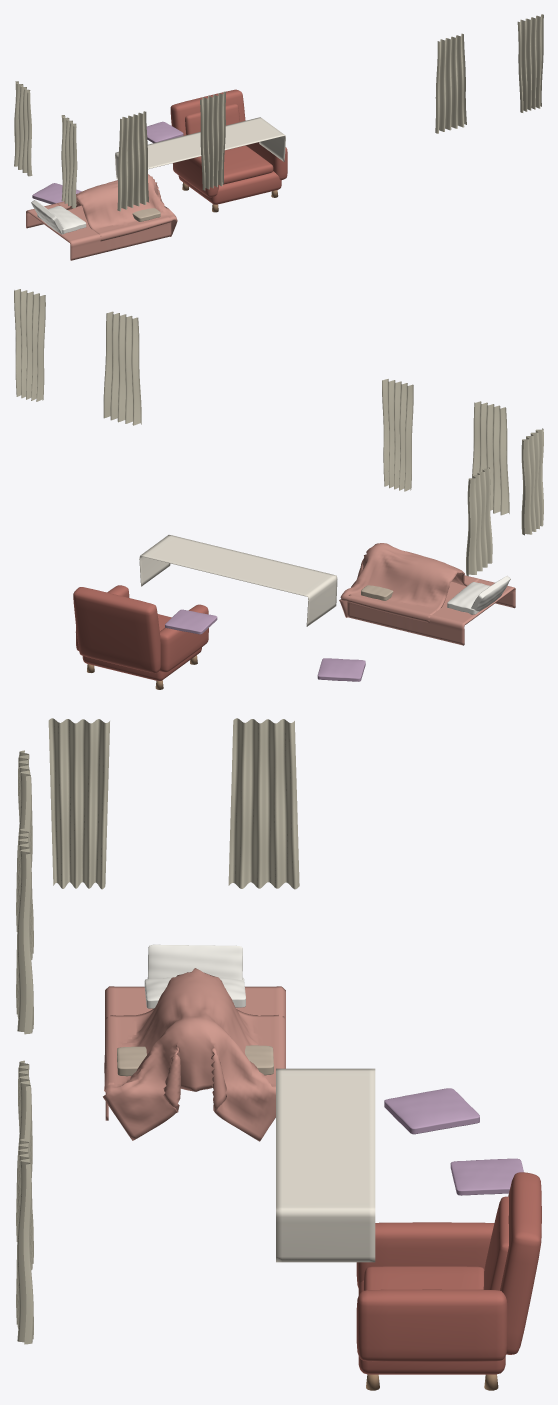
File: soft.glb
3 views of the same model, one above another, from view 1: azimuth 30°, elevation 25°; view 2: azimuth 150°, elevation 25°; view 3: azimuth 270°, elevation 25° (orthographic). The views are drawn at different scales.
Visible parts, largest first — view 1: Curtains, Armchair, QuiltSleep, Runner, Quilt, Pillow1, ChairCushion, CatCushion, Pillow2; view 2: Curtains, Armchair, Runner, QuiltSleep, Quilt, CatCushion, ChairCushion, Pillow1, Pillow2; view 3: Curtains, Armchair, Runner, QuiltSleep, Quilt, CatCushion, Pillow2, ChairCushion, Blanket, Pillow1.
Part boxes in pixels (box(x1,y1,x2,y2)): Curtains: box(14, 14, 543, 211); Armchair: box(170, 89, 287, 212); QuiltSleep: box(57, 174, 177, 241); Runner: box(115, 117, 285, 179); Quilt: box(26, 201, 171, 260); Pillow1: box(37, 206, 86, 233); ChairCushion: box(146, 121, 183, 143); CatCushion: box(32, 183, 81, 204); Pillow2: box(31, 200, 63, 234); Curtains: box(14, 289, 543, 576); Armchair: box(73, 585, 208, 689); Runner: box(139, 535, 337, 626); QuiltSleep: box(339, 543, 479, 622); Quilt: box(347, 575, 515, 645); CatCushion: box(317, 658, 365, 681); ChairCushion: box(165, 609, 217, 634); Pillow1: box(447, 582, 489, 614); Pillow2: box(469, 575, 510, 614); Curtains: box(16, 718, 299, 1344); Armchair: box(356, 1172, 541, 1390); Runner: box(276, 1068, 375, 1262); QuiltSleep: box(103, 968, 284, 1141); Quilt: box(105, 986, 285, 1120); CatCushion: box(384, 1088, 479, 1134); Pillow2: box(147, 944, 242, 979); ChairCushion: box(450, 1158, 523, 1195); Blanket: box(117, 1045, 273, 1076); Pillow1: box(144, 977, 245, 1008).
Size of the model in its own units: 4.54 by 1.87 by 2.22.
